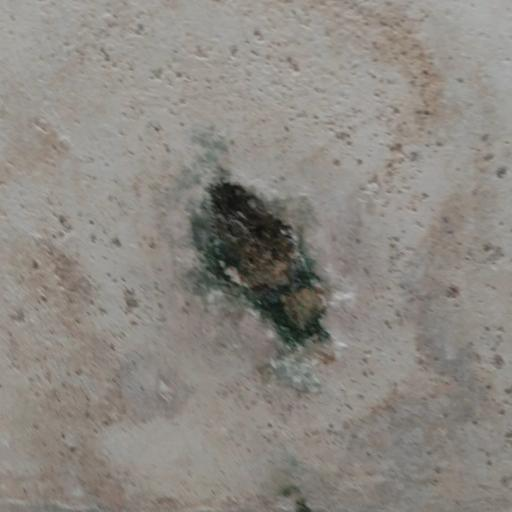algae: (94, 86, 405, 439)
